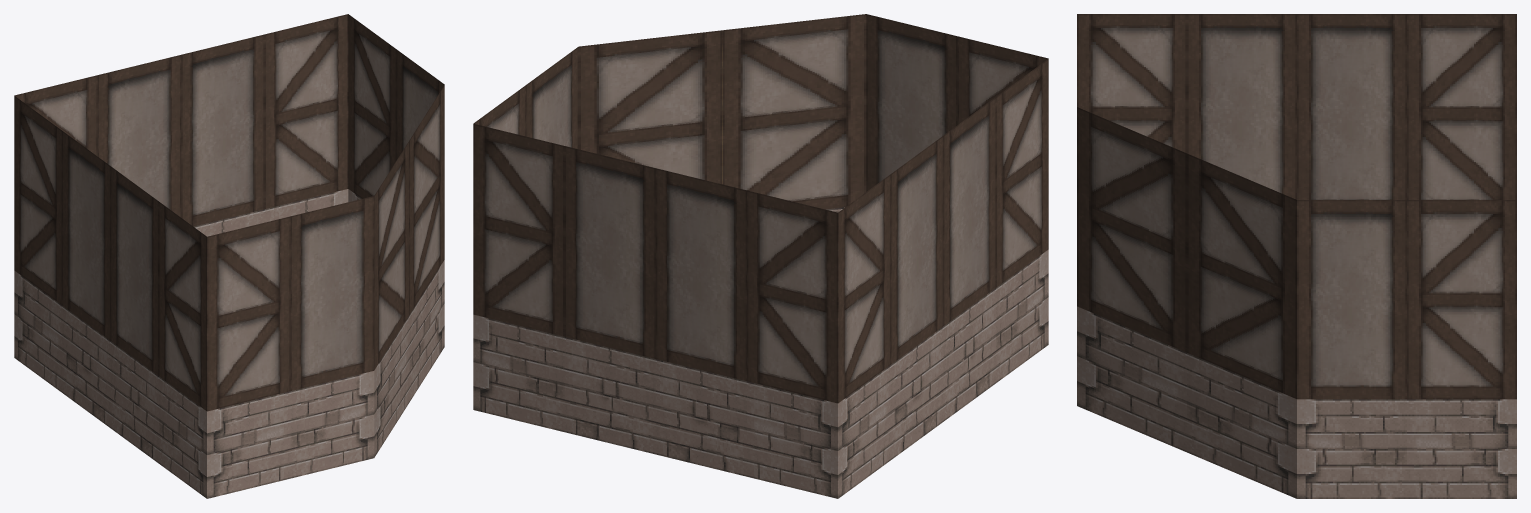
Rendered from plaster_wall_stone_base_cornered_alt.glb.
3 renders of one model, left to right at view 1: azimuth 30°, elevation 25°; view 2: azimuth 150°, elevation 25°; view 3: azimuth 270°, elevation 25°, orthographic. The views are drawn at different scales.
Visible parts, largest first — view 1: plaster_wall_stone_base_cornered_alt; view 2: plaster_wall_stone_base_cornered_alt; view 3: plaster_wall_stone_base_cornered_alt.
Boxes of the visible parts, x1,y1,x2,y2 form: plaster_wall_stone_base_cornered_alt: [14, 14, 444, 498]; plaster_wall_stone_base_cornered_alt: [473, 14, 1048, 498]; plaster_wall_stone_base_cornered_alt: [1077, 14, 1516, 498].
Size of the model in its own units: 4 by 3 by 4.
Materials: 1 (1 with a texture image).
